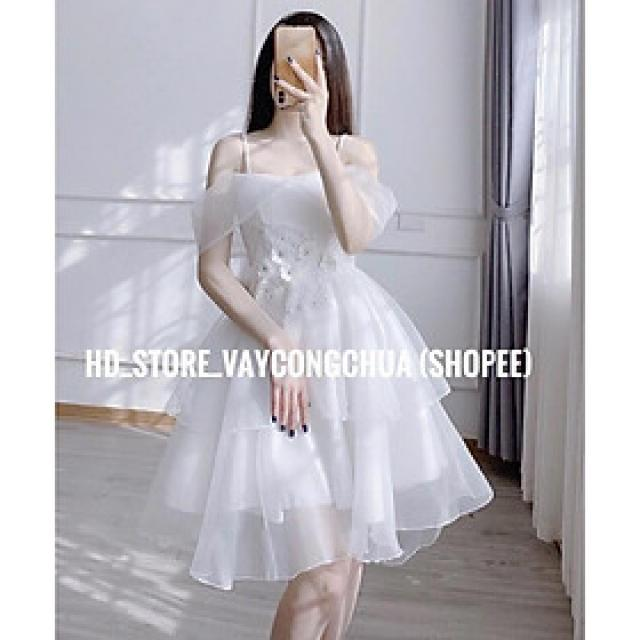clothes: (185, 129, 449, 560)
